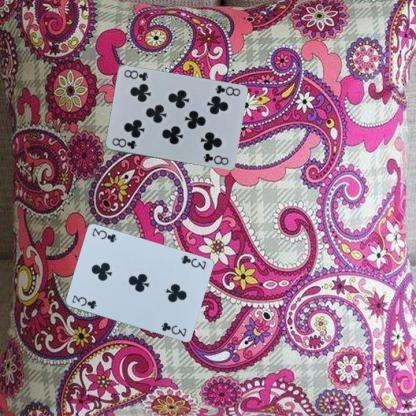3c: (178, 252, 207, 271), (69, 292, 98, 310)
8c: (212, 82, 241, 98), (109, 136, 138, 150)
